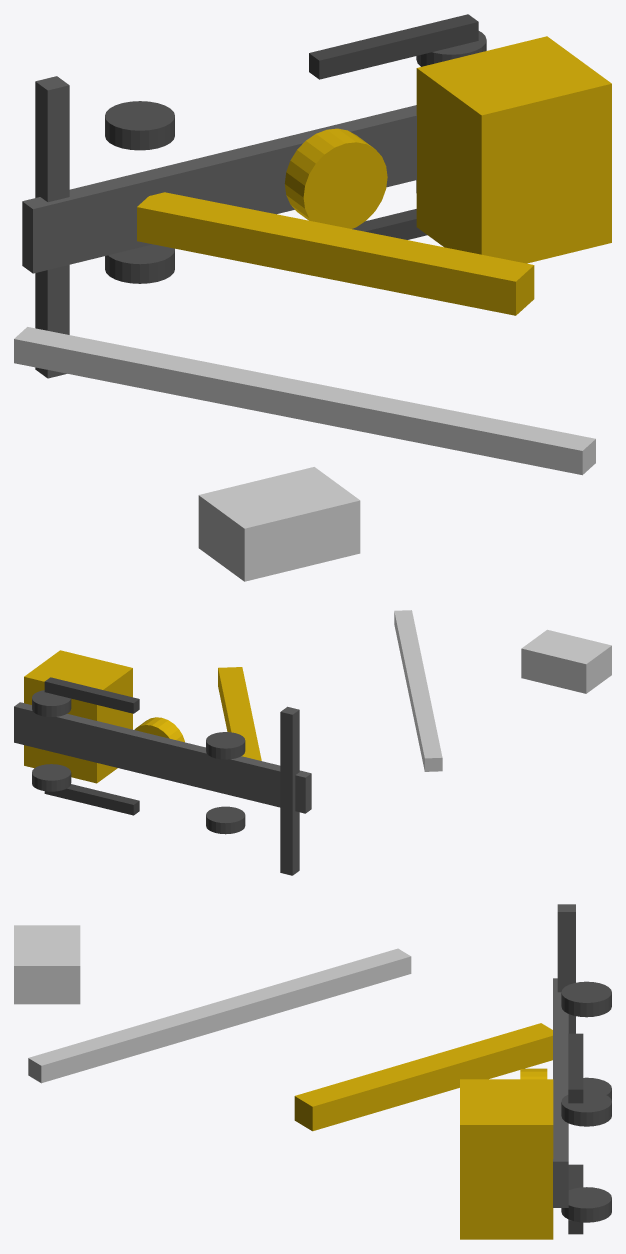
The model's file is enmax_emgk24_aerial_platform.glb.
3 views of the same model, one above another, from view 1: azimuth 30°, elevation 25°; view 2: azimuth 150°, elevation 25°; view 3: azimuth 270°, elevation 25° (orthographic). The views are drawn at different scales.
Parts seen in each view (by area): view 1: emgk24_cabin, 6section_sync_extension, 7section_main_boom_base, emgk24_chassis, insulated_basket_1600x700_200kg, turntable, rear_h_outrigger_beam, front_x_outrigger_left, emgk24_wheel_-1.8_0.88, emgk24_wheel_-1.8_-0.88, front_x_outrigger_right, emgk24_wheel_2.5_0.88; view 2: emgk24_chassis, emgk24_cabin, insulated_basket_1600x700_200kg, 6section_sync_extension, rear_h_outrigger_beam, 7section_main_boom_base, front_x_outrigger_left, front_x_outrigger_right, emgk24_wheel_-1.8_0.88, emgk24_wheel_2.5_-0.88, emgk24_wheel_-1.8_-0.88, emgk24_wheel_2.5_0.88 (+1 smaller); view 3: emgk24_cabin, 6section_sync_extension, 7section_main_boom_base, insulated_basket_1600x700_200kg, emgk24_chassis, rear_h_outrigger_beam, emgk24_wheel_-1.8_0.88, emgk24_wheel_2.5_-0.88, emgk24_wheel_2.5_0.88, front_x_outrigger_left, front_x_outrigger_right.
Boxes of the visible parts, x1,y1,x2,y2 form: emgk24_cabin: (416, 36, 611, 263); 6section_sync_extension: (14, 327, 595, 475); 7section_main_boom_base: (137, 192, 534, 315); emgk24_chassis: (22, 105, 416, 273); insulated_basket_1600x700_200kg: (198, 467, 360, 581); turntable: (284, 128, 387, 228); rear_h_outrigger_beam: (35, 76, 69, 378); front_x_outrigger_left: (309, 14, 478, 79); emgk24_wheel_-1.8_0.88: (105, 101, 174, 150); emgk24_wheel_-1.8_-0.88: (105, 244, 174, 283); front_x_outrigger_right: (352, 209, 427, 239); emgk24_wheel_2.5_0.88: (416, 31, 486, 66); emgk24_chassis: (14, 702, 311, 813); emgk24_cabin: (24, 650, 132, 783); insulated_basket_1600x700_200kg: (521, 629, 611, 693); 6section_sync_extension: (394, 610, 442, 771); rear_h_outrigger_beam: (280, 706, 299, 875); 7section_main_boom_base: (218, 667, 261, 760); front_x_outrigger_left: (44, 677, 139, 713); front_x_outrigger_right: (44, 784, 139, 815); emgk24_wheel_-1.8_0.88: (206, 732, 245, 759); emgk24_wheel_2.5_-0.88: (32, 764, 71, 791); emgk24_wheel_-1.8_-0.88: (206, 806, 245, 834); emgk24_wheel_2.5_0.88: (32, 690, 71, 716); emgk24_cabin: (460, 1079, 553, 1239); 6section_sync_extension: (28, 948, 411, 1083); 7section_main_boom_base: (294, 1023, 552, 1131); insulated_basket_1600x700_200kg: (14, 925, 80, 1004); emgk24_chassis: (553, 978, 568, 1207); rear_h_outrigger_beam: (557, 904, 575, 1033); emgk24_wheel_-1.8_0.88: (561, 981, 611, 1017); emgk24_wheel_2.5_-0.88: (561, 1187, 611, 1222); emgk24_wheel_2.5_0.88: (561, 1091, 611, 1126); front_x_outrigger_left: (568, 1033, 583, 1103); front_x_outrigger_right: (568, 1164, 583, 1234).
Size of the model in its own units: 9.45 by 3.8 by 9.93.
